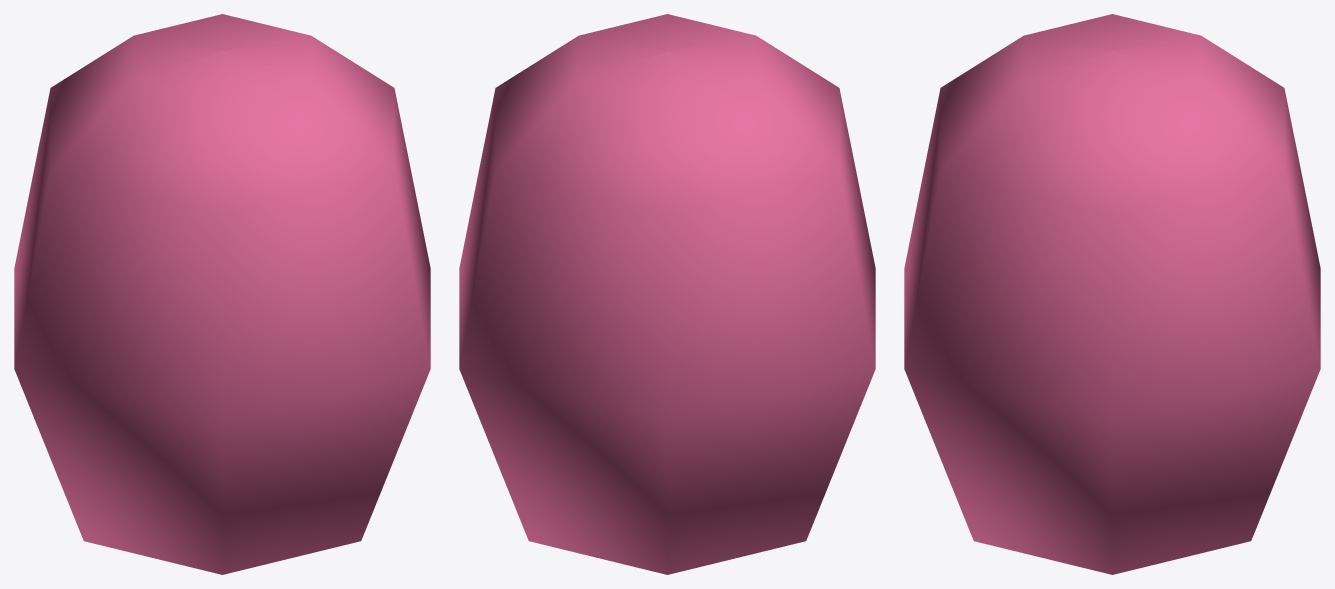
The model's file is fruit-cactus-gold-far.glb.
3 views of the same model, side by side, from view 1: azimuth 30°, elevation 25°; view 2: azimuth 150°, elevation 25°; view 3: azimuth 270°, elevation 25° (orthographic).
Parts seen in each view (by area): view 1: fruit-cactus-far; view 2: fruit-cactus-far; view 3: fruit-cactus-far.
Boxes of the visible parts, x1,y1,x2,y2 form: fruit-cactus-far: (14,14,430,574); fruit-cactus-far: (459,14,875,574); fruit-cactus-far: (904,14,1320,574).
Size of the model in its own units: 0.3 by 0.344 by 0.2598.
